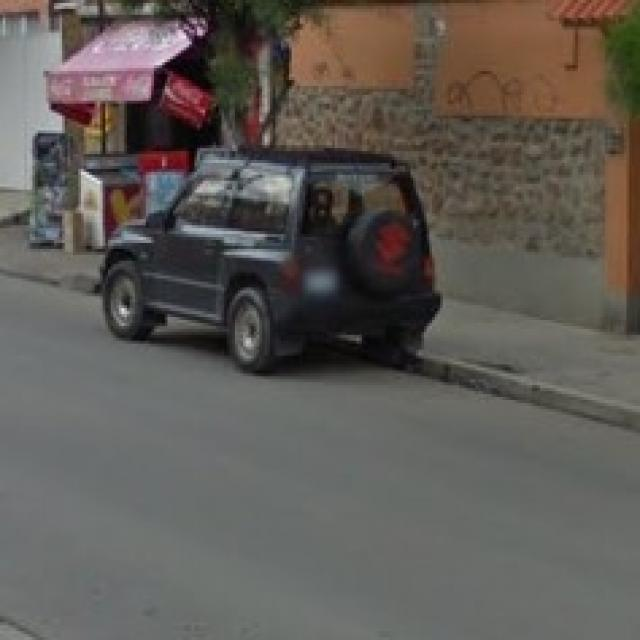Car: (101, 158, 443, 365)
